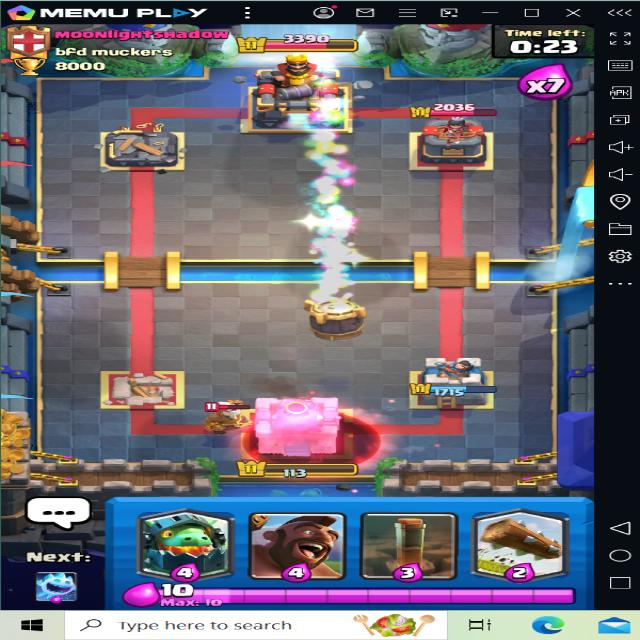rocket: (296, 289, 376, 344)
